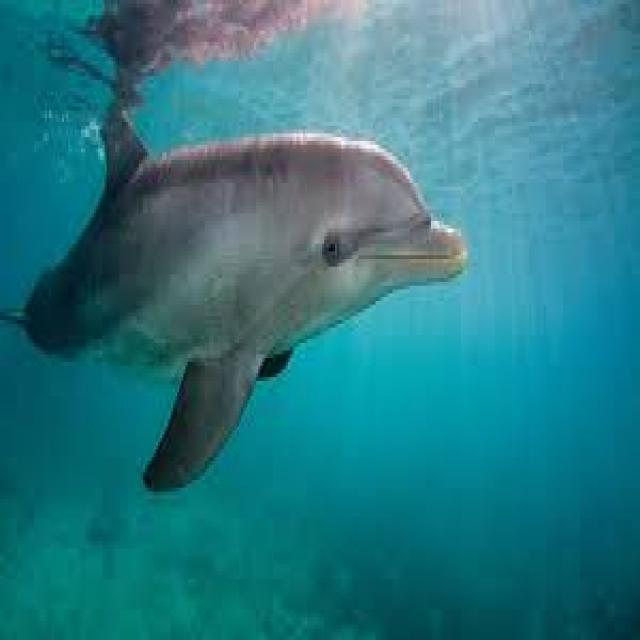dolphin: (17, 107, 484, 510)
